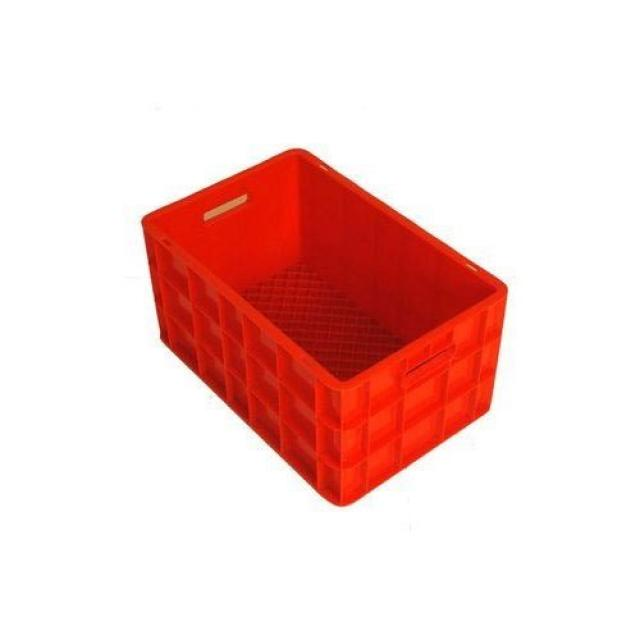basket: (92, 71, 559, 540)
